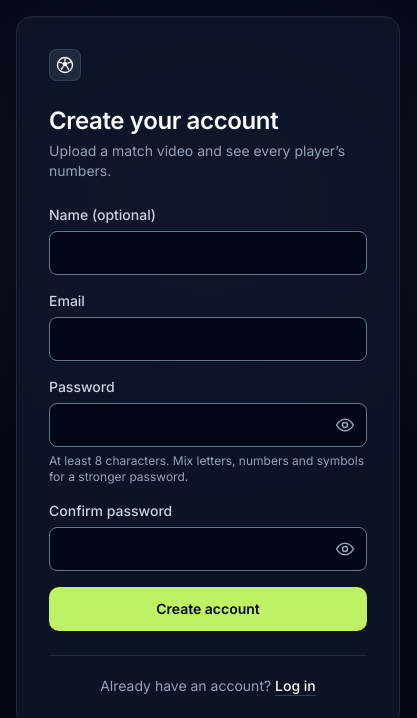
Test: Signup › validates on blur: short password and mismatched confirmation
This screenshot has width=417, height=718.
Step 1. Type "short" into the password field labelled "Password" → (208, 425), box [49, 403, 367, 447]
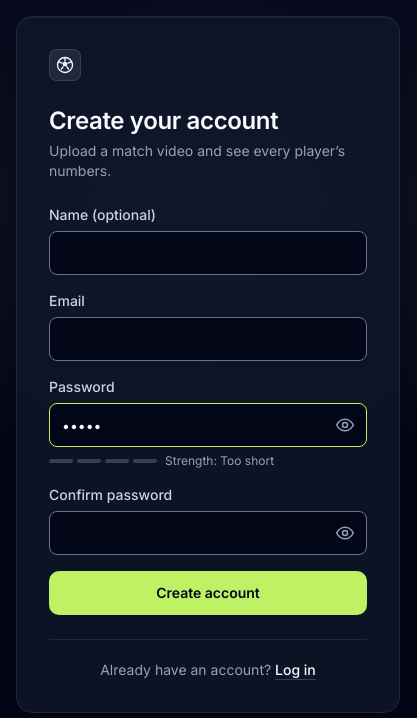
Step 2. Press Tab
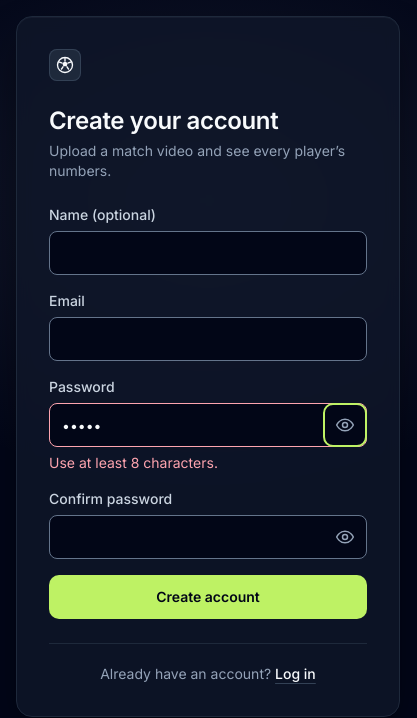
Expected: the text "Use at least 8 characters." is shown, [49, 454, 218, 471]
Step 3. Type "different1" into the password field labelled "Confirm password" → (208, 537), box [49, 515, 367, 559]
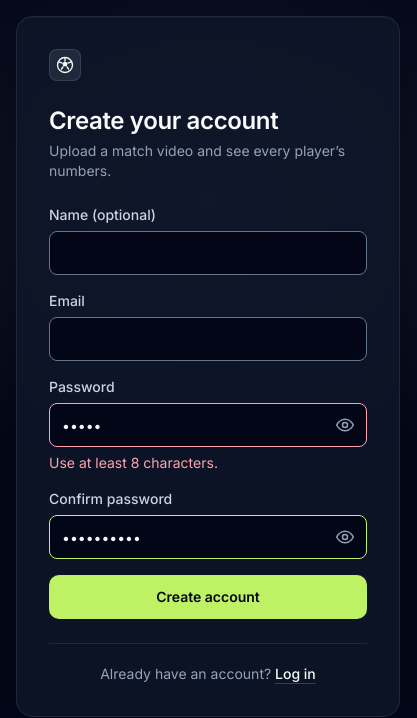
Step 4. Press Tab
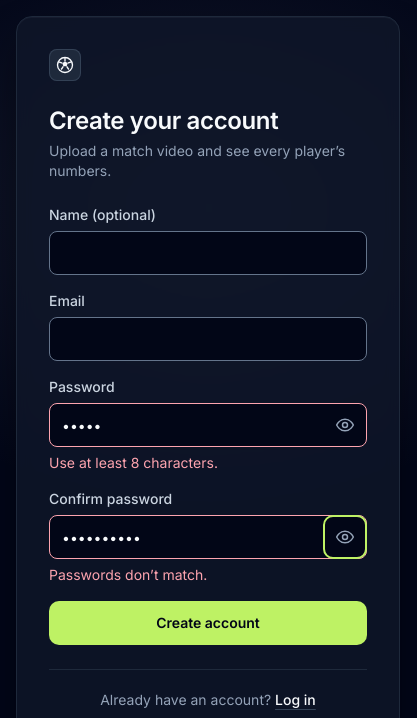
Expected: the text "Passwords don’t match." is shown, [49, 566, 207, 583]
Step 5. Click the button "Create account" → (208, 623), box [49, 601, 367, 645]
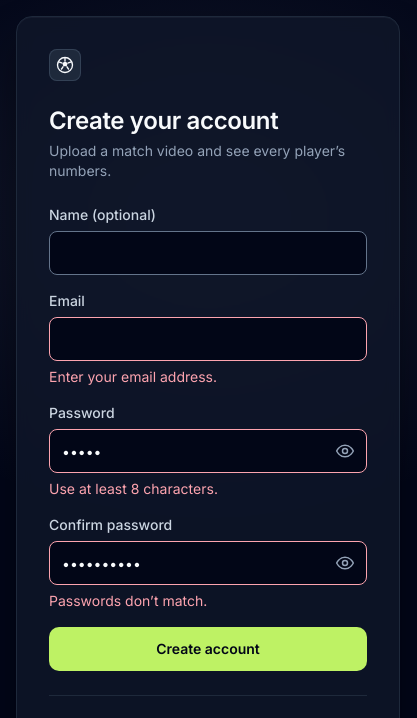
Expected: the text "Enter your email address." is shown, [49, 368, 217, 385]
